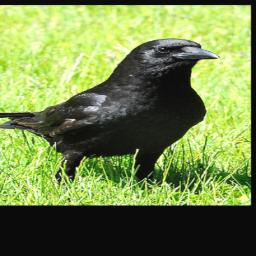Crow: (0, 37, 223, 186)
